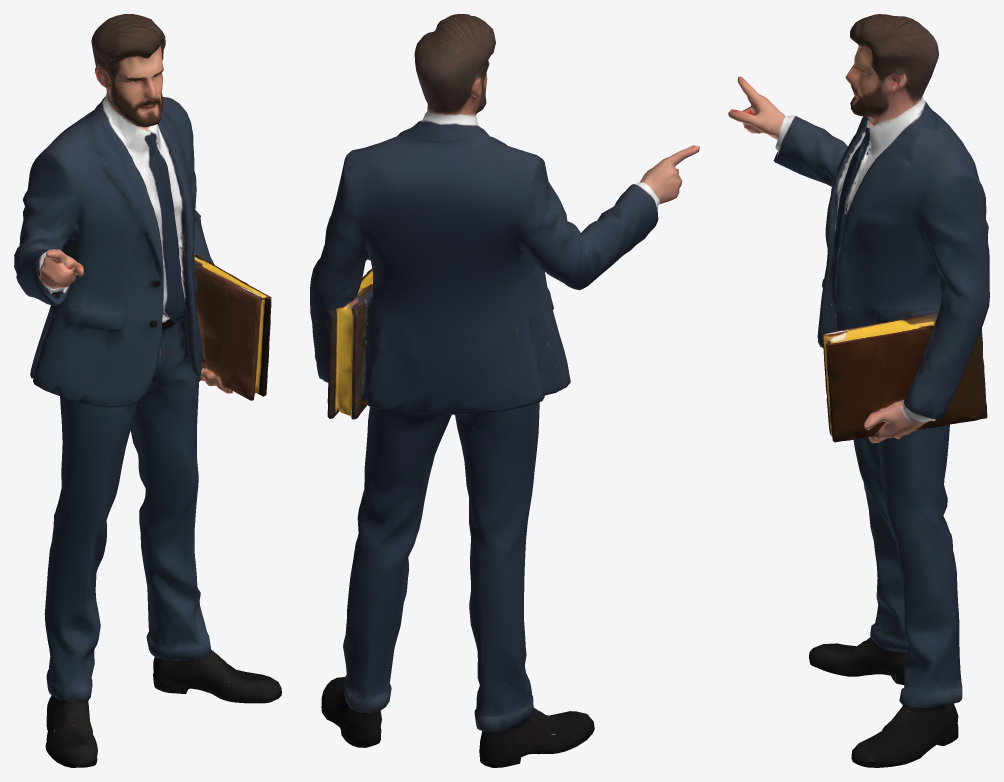
Rendered from infantry-v2.glb.
3 renders of one model, left to right at view 1: azimuth 30°, elevation 25°; view 2: azimuth 150°, elevation 25°; view 3: azimuth 270°, elevation 25°, orthographic. The views are drawn at different scales.
Parts seen in each view (by area): view 1: Mesh_0; view 2: Mesh_0; view 3: Mesh_0.
Part boxes in pixels (box(x1,y1,x2,y2)): Mesh_0: box(14, 14, 281, 767); Mesh_0: box(310, 14, 699, 767); Mesh_0: box(728, 14, 989, 767).
Size of the model in its own units: 0.8491 by 1.91 by 0.6561.
1 material, 1 textured.
